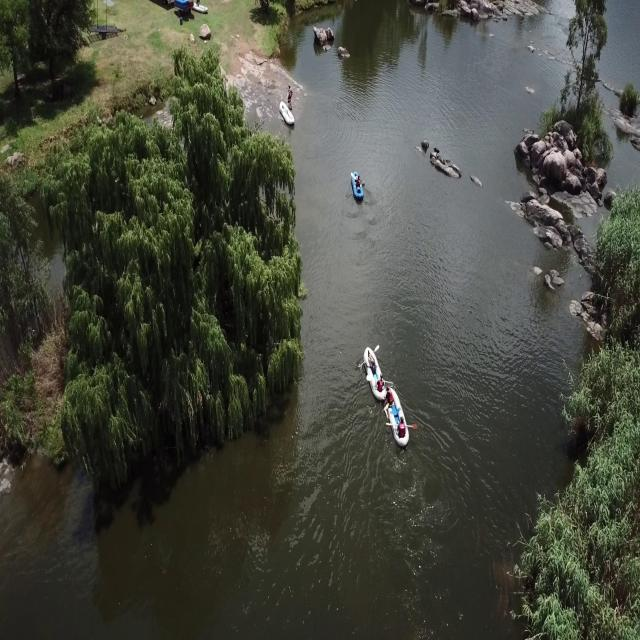kayak: (358, 340, 389, 400), (384, 387, 410, 449), (348, 169, 366, 204)
